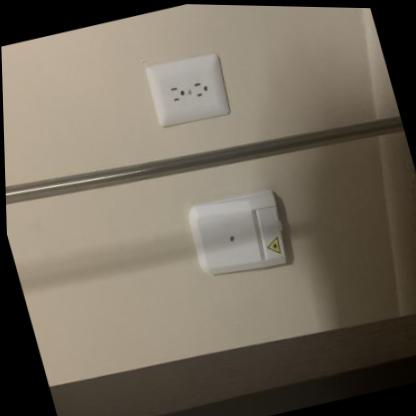OUTLET: (143, 48, 231, 129)
